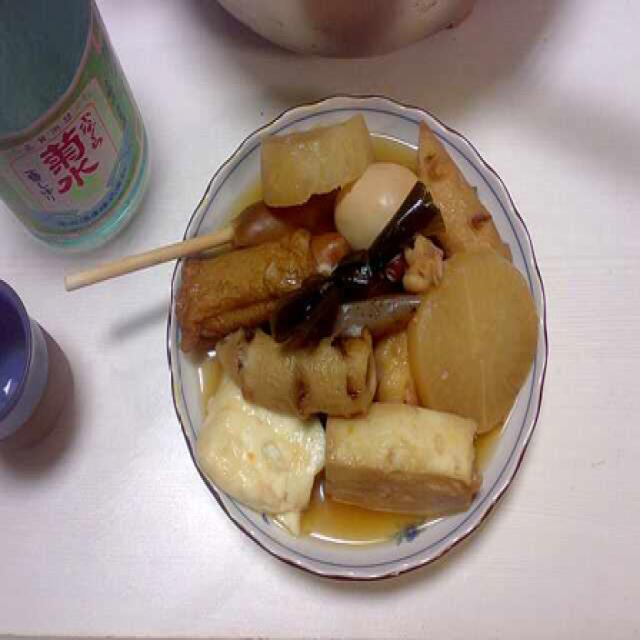汤锅炖物: (164, 114, 540, 547)
